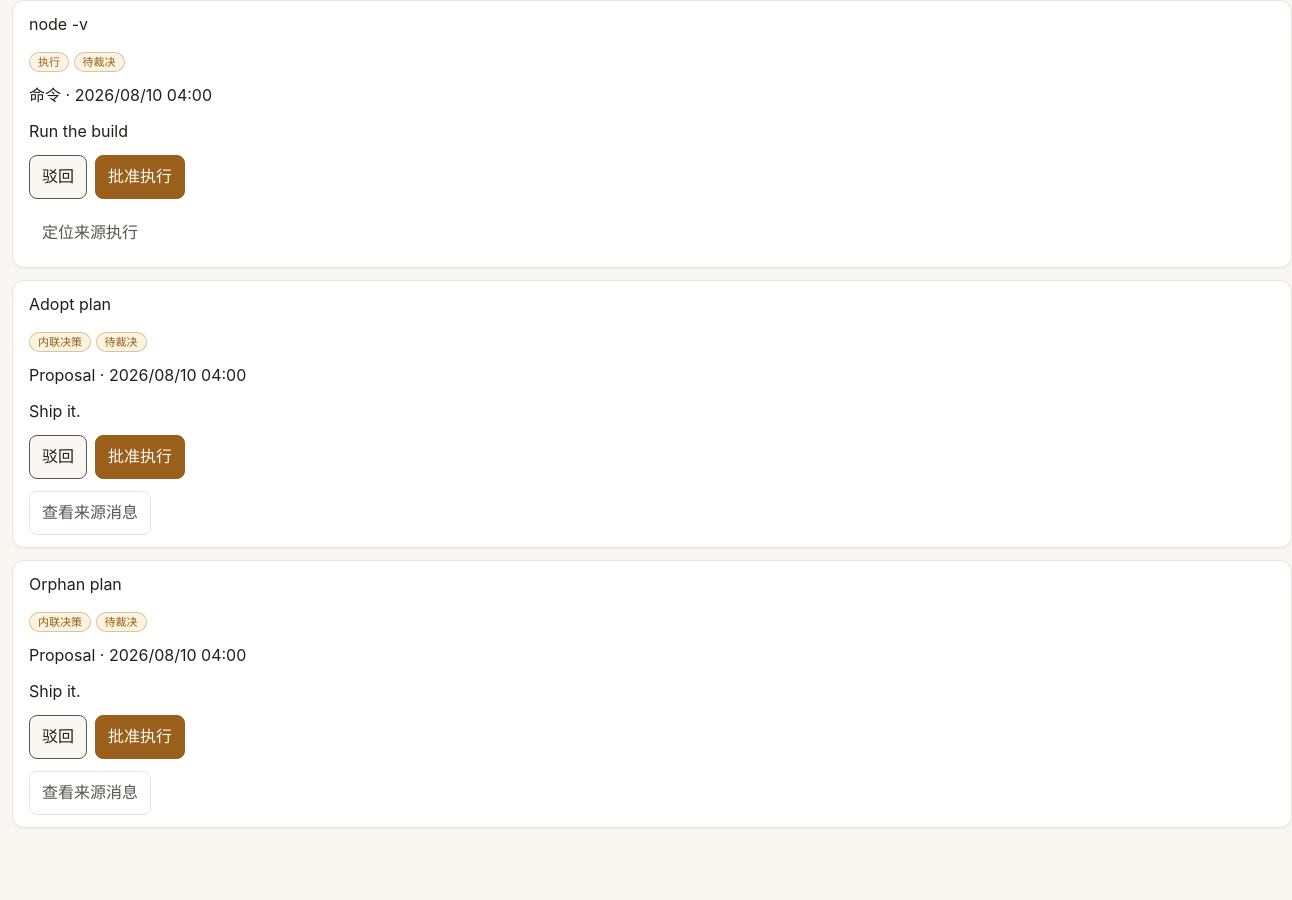
Approval center panel › locates the source execution and links inline decisions to the canonical thread target
Click the button "定位来源执行" at (90, 233), box x1=29 y1=211 x2=151 y2=255
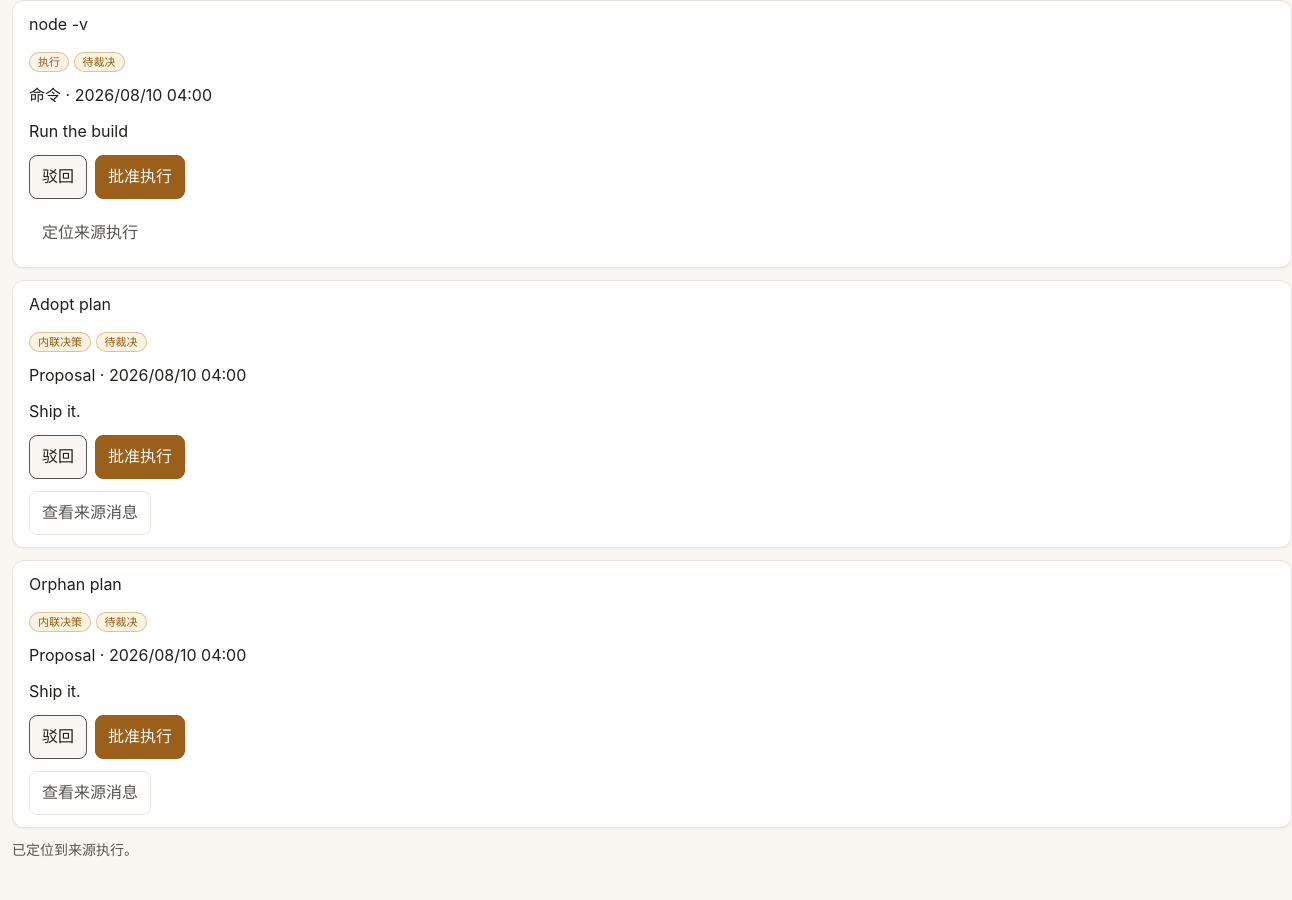
Expected: the message reads "已定位到来源执行。", x1=12 y1=841 x2=138 y2=858
